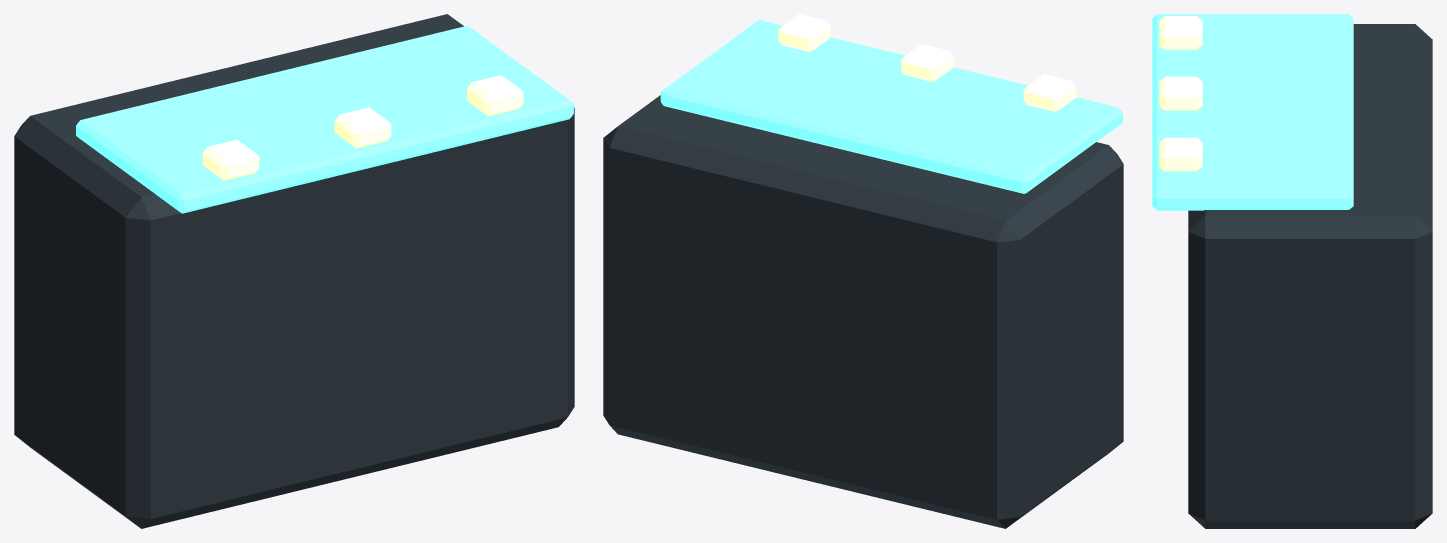
File: console.lod0.glb
3 renders of one model, left to right at view 1: azimuth 30°, elevation 25°; view 2: azimuth 150°, elevation 25°; view 3: azimuth 270°, elevation 25°, orthographic. The views are drawn at different scales.
Parts seen in each view (by area): view 1: structure; view 2: structure; view 3: structure.
Boxes of the visible parts, bbox=[...] form: structure: bbox=[14, 14, 574, 528]; structure: bbox=[603, 14, 1123, 528]; structure: bbox=[1152, 14, 1432, 528].
Size of the model in its own units: 1.7 by 1.34 by 0.975.
